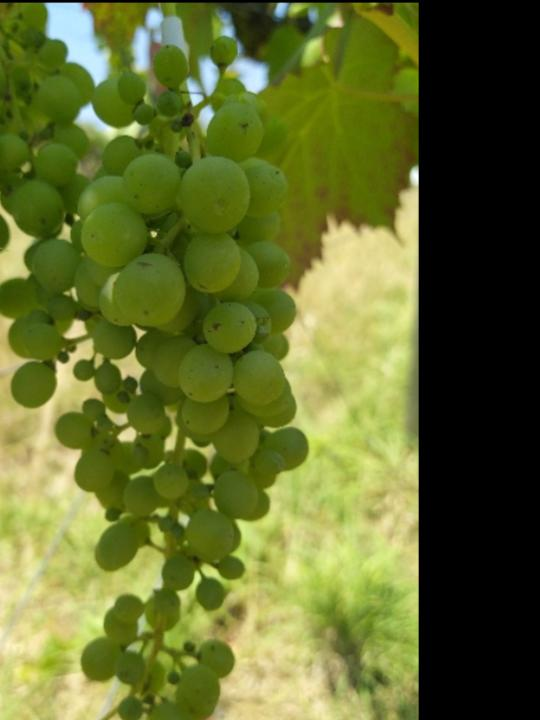grape: (0, 33, 313, 720)
